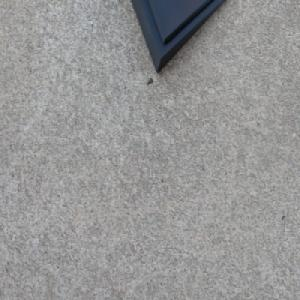PlasticPart: (128, 0, 229, 76)
